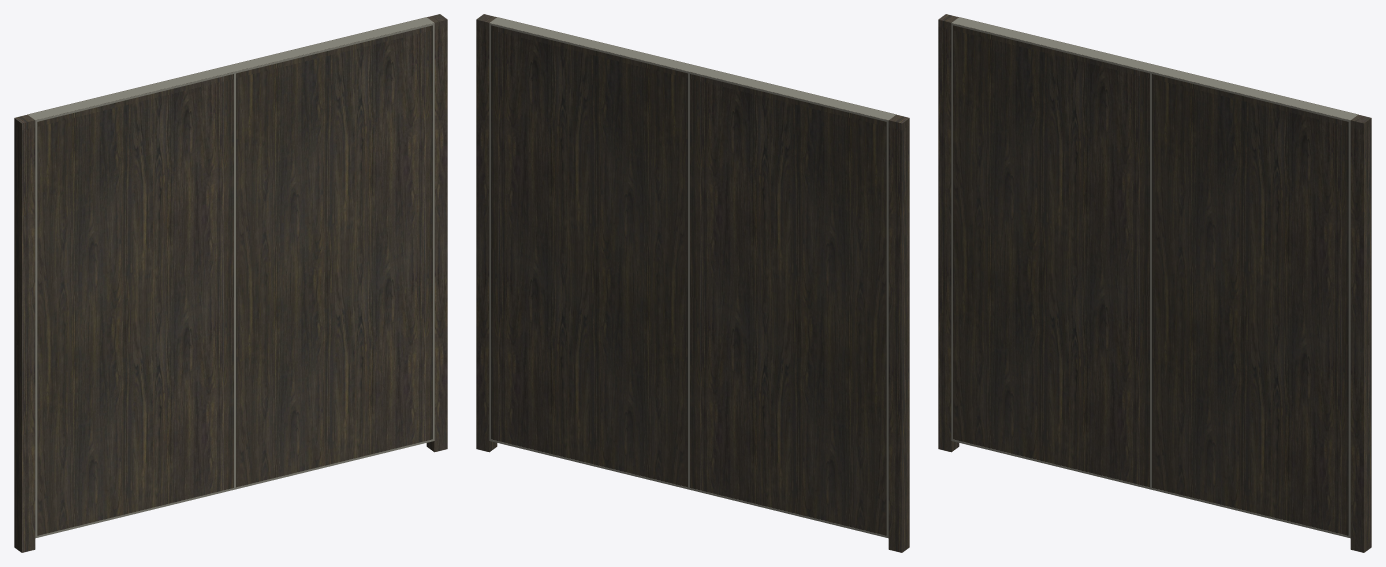
File: ABF5-H1800_blackebony.fbx
3 renders of one model, left to right at view 1: azimuth 30°, elevation 25°; view 2: azimuth 150°, elevation 25°; view 3: azimuth 330°, elevation 25°, orthographic.
Visible parts, largest first — view 1: ABF5-H1800_black ebony; view 2: ABF5-H1800_black ebony; view 3: ABF5-H1800_black ebony.
Part boxes in pixels (<box>): ABF5-H1800_black ebony: <box>14,14,447,552</box>; ABF5-H1800_black ebony: <box>476,14,909,552</box>; ABF5-H1800_black ebony: <box>938,14,1371,552</box>.
Size of the model in its own units: 192 by 185 by 6.4.
Materials: 4 (3 with a texture image).
